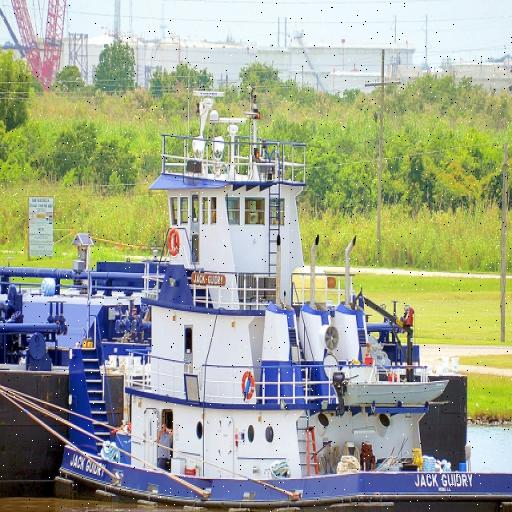tugboat: (54, 84, 512, 512)
